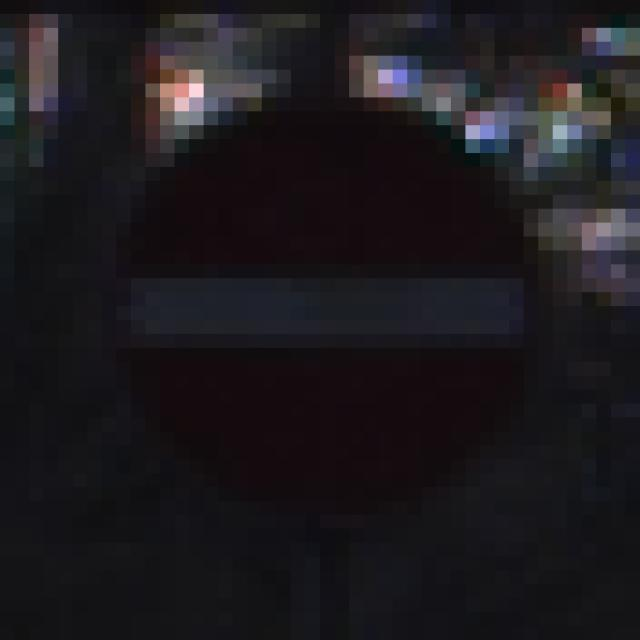No Entry: (89, 71, 569, 572)
